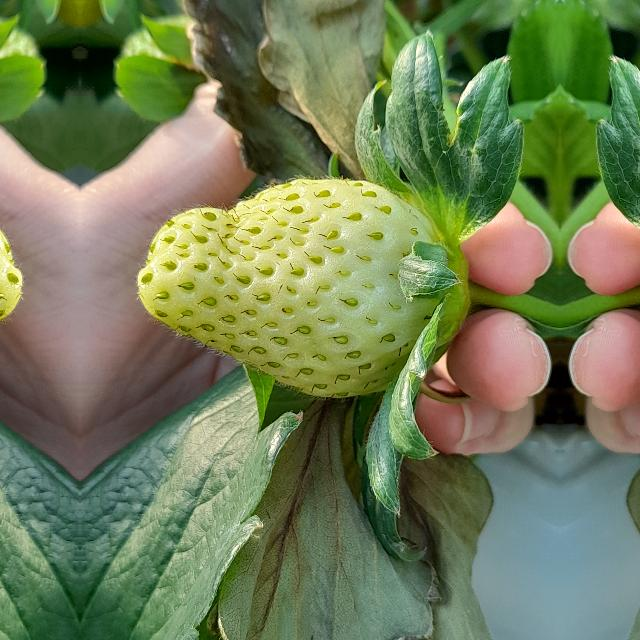Health_25: (133, 174, 444, 400)
